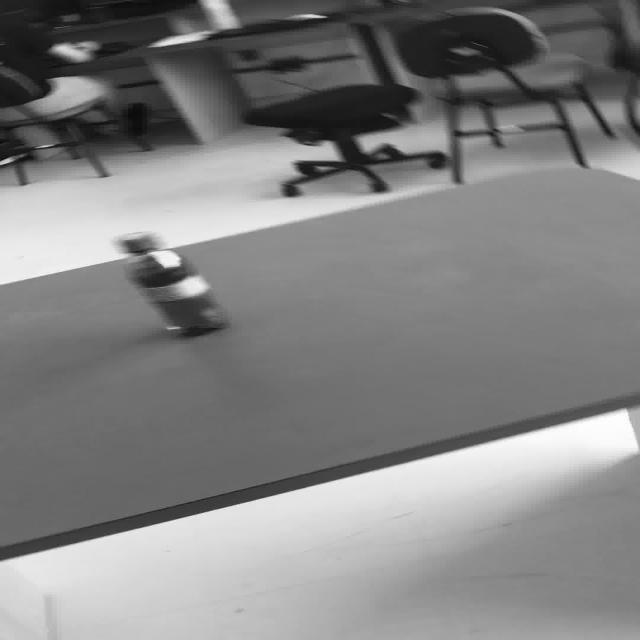guarana: (112, 230, 228, 337)
